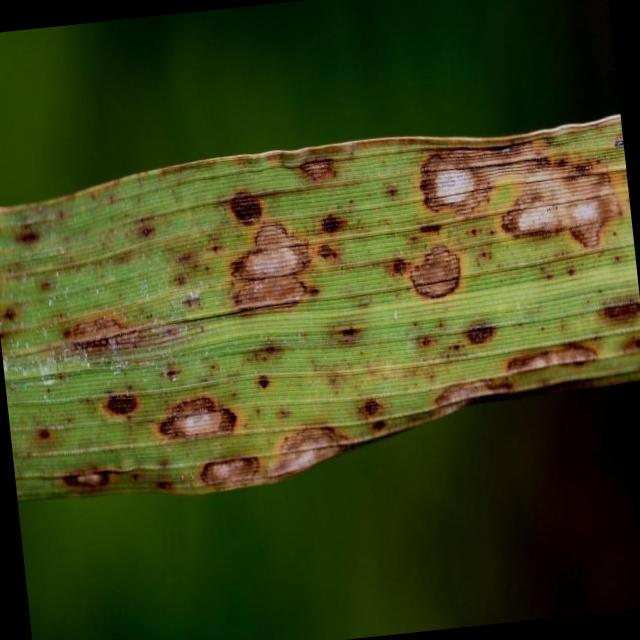Rice_Brownspot: (219, 211, 342, 334), (480, 161, 620, 259), (48, 292, 190, 359), (404, 119, 497, 217), (144, 366, 251, 450), (498, 305, 614, 381), (254, 405, 360, 485), (376, 232, 484, 309), (55, 444, 179, 508), (588, 273, 640, 401), (422, 359, 510, 422), (79, 354, 147, 426), (440, 287, 508, 349), (217, 169, 274, 235), (286, 146, 344, 187), (358, 384, 394, 444), (5, 215, 47, 262)
